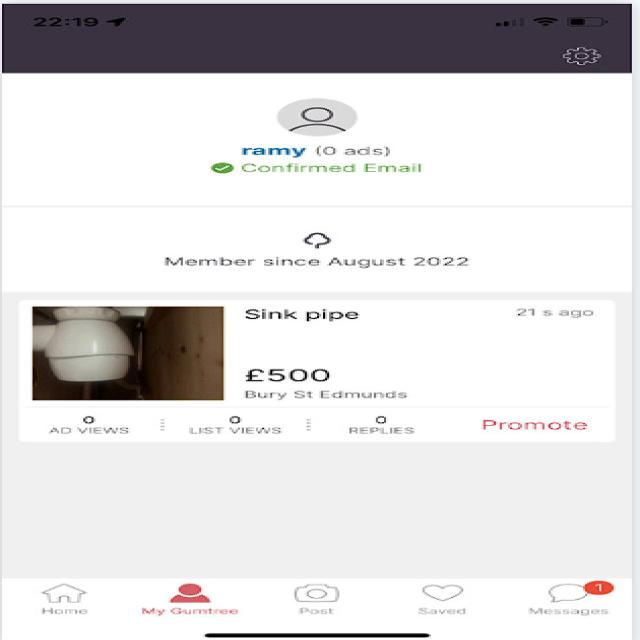icon button: (520, 575, 626, 624), (142, 576, 252, 622), (398, 572, 488, 619), (274, 574, 363, 618), (35, 572, 110, 621), (549, 34, 621, 71)
image: (12, 298, 238, 399)
view: (178, 92, 502, 191)
